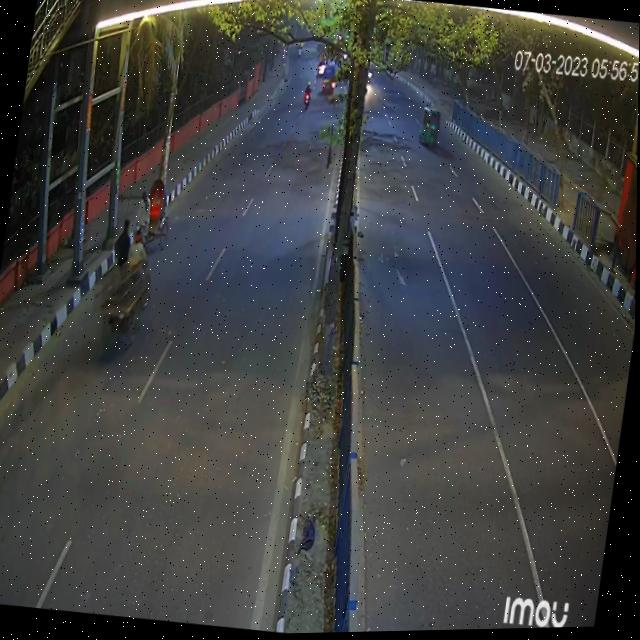cng: (417, 104, 445, 156)
rikshaw: (128, 169, 177, 261)
